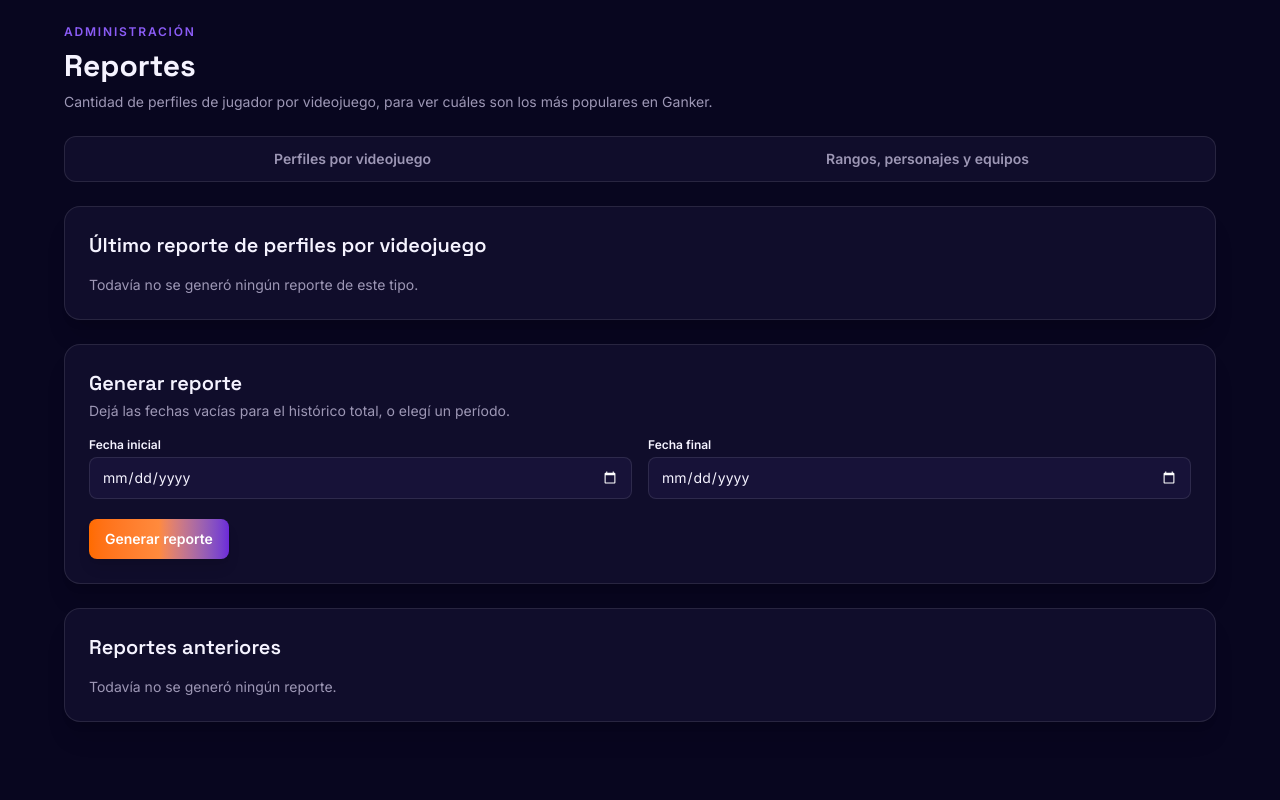
Test: ReportesPage - US 37 Reporte de jugadores por videojuego › genera el histórico total y lista los juegos por popularidad con su porcentaje
What coordinates should you click on to do the following:
click the button "Generar reporte"
I would click on:
 (159, 539)
Its box is [89,519,229,559].
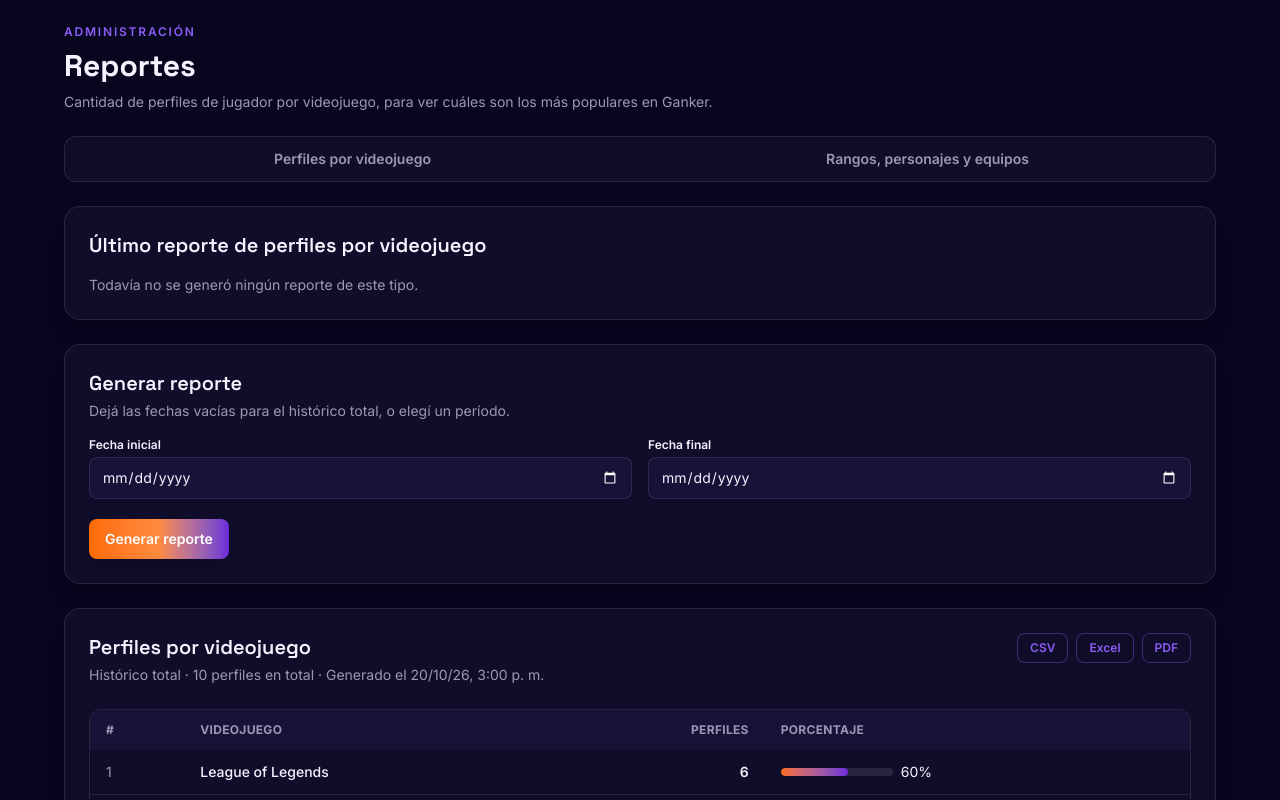
Expected: the text "60%" is shown, [901,762,932,782]
Expected: the text "Histórico total · 10 perfiles en total" is shown, [89,665,544,685]
